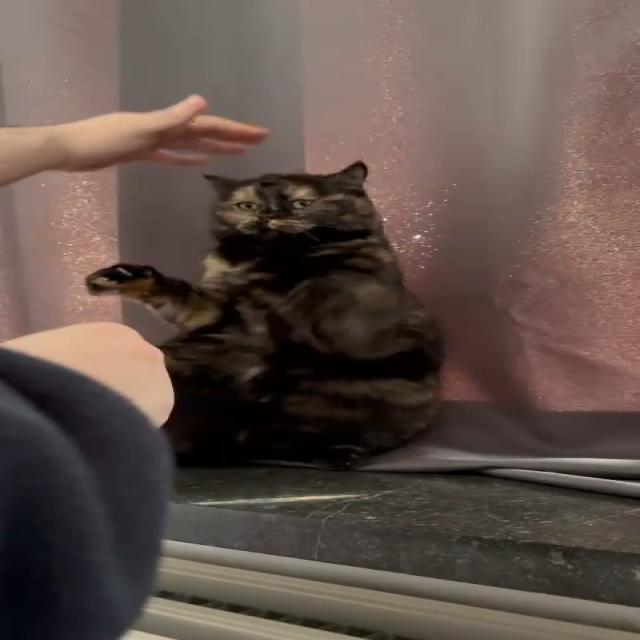authorized: (84, 159, 445, 470)
